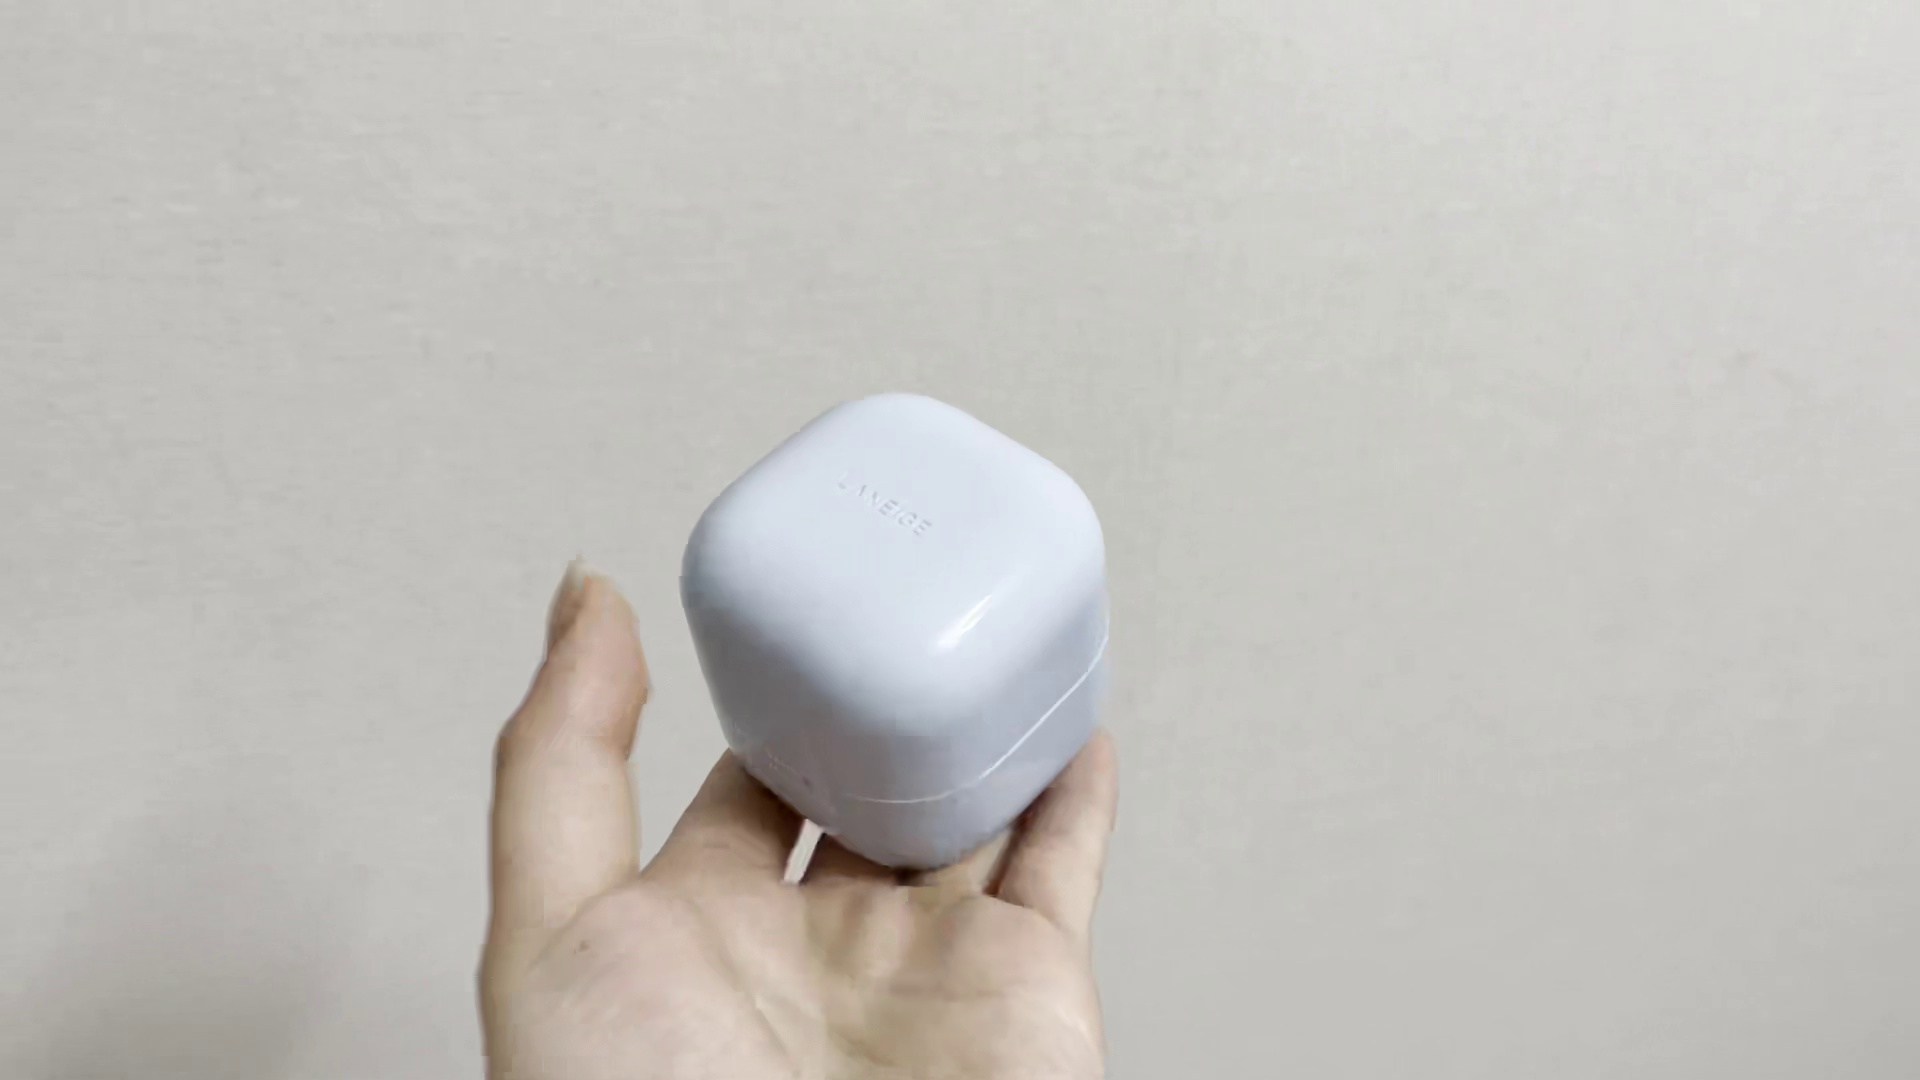cream: (680, 386, 1112, 870)
